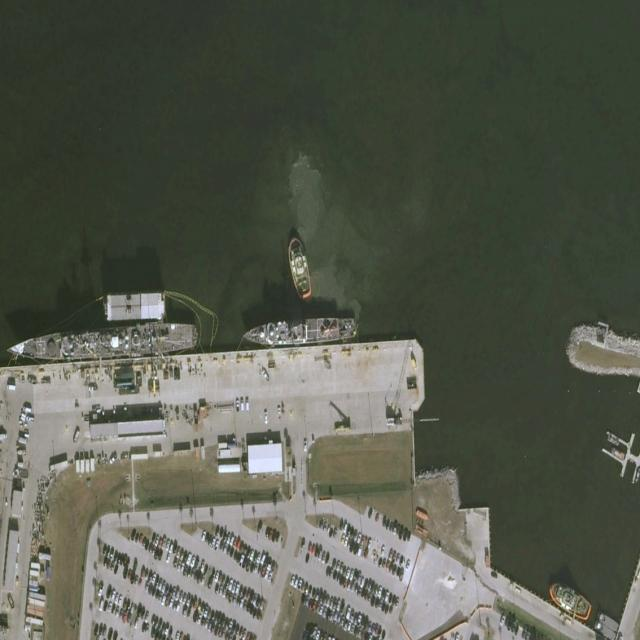Frigate: (5, 318, 199, 365)
Hovercraft: (546, 576, 594, 623), (286, 234, 313, 299)
Other Ship: (241, 315, 357, 348)
